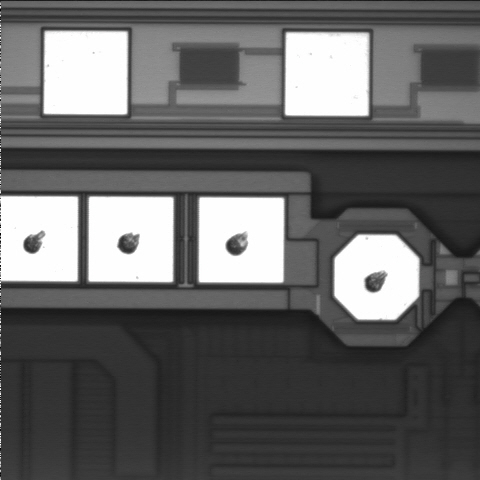pad: (199, 197, 284, 283), (334, 235, 419, 320), (89, 197, 173, 282), (44, 31, 128, 114), (285, 33, 369, 116)
